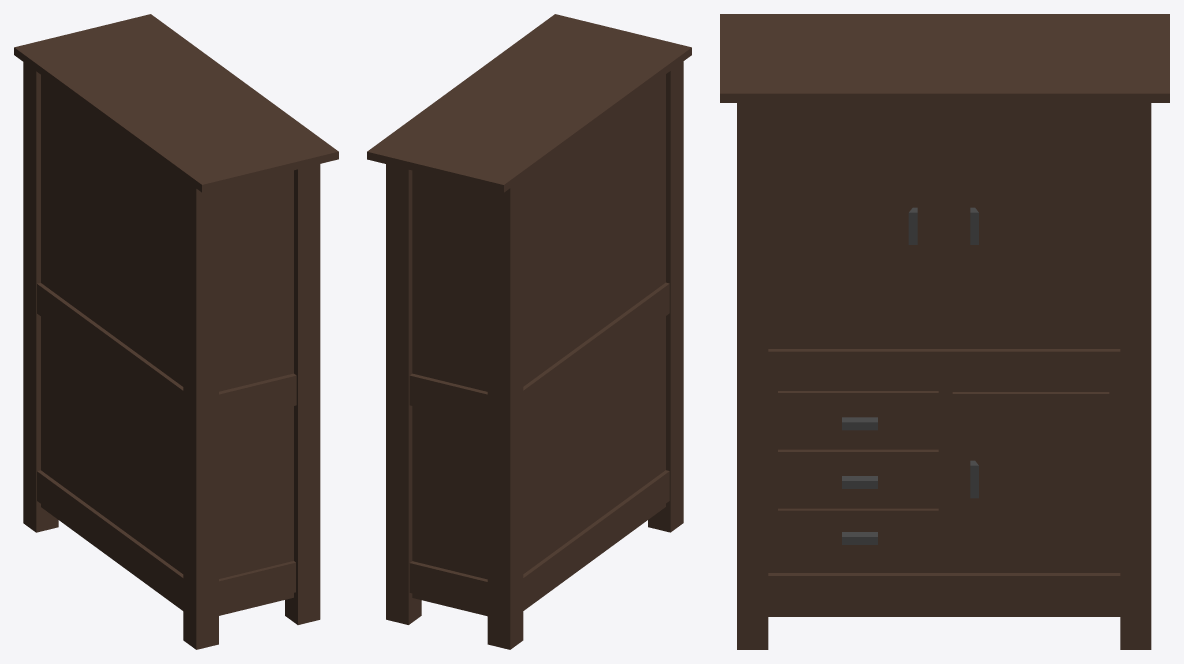
The model's file is S_Bathroomcabinet.fbx.
3 renders of one model, left to right at view 1: azimuth 30°, elevation 25°; view 2: azimuth 150°, elevation 25°; view 3: azimuth 270°, elevation 25°, orthographic. The views are drawn at different scales.
Visible parts, largest first — view 1: S_Bathroomcabinet; view 2: S_Bathroomcabinet; view 3: S_Bathroomcabinet.
Part boxes in pixels (x1,y1,x2,y2): S_Bathroomcabinet: (14,14,338,649); S_Bathroomcabinet: (367,14,691,649); S_Bathroomcabinet: (720,14,1169,649).
Size of the model in its own units: 65.43 by 215 by 156.
